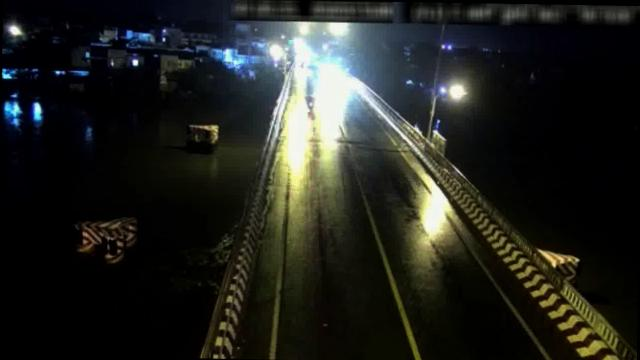Bike: (304, 95, 315, 112)
